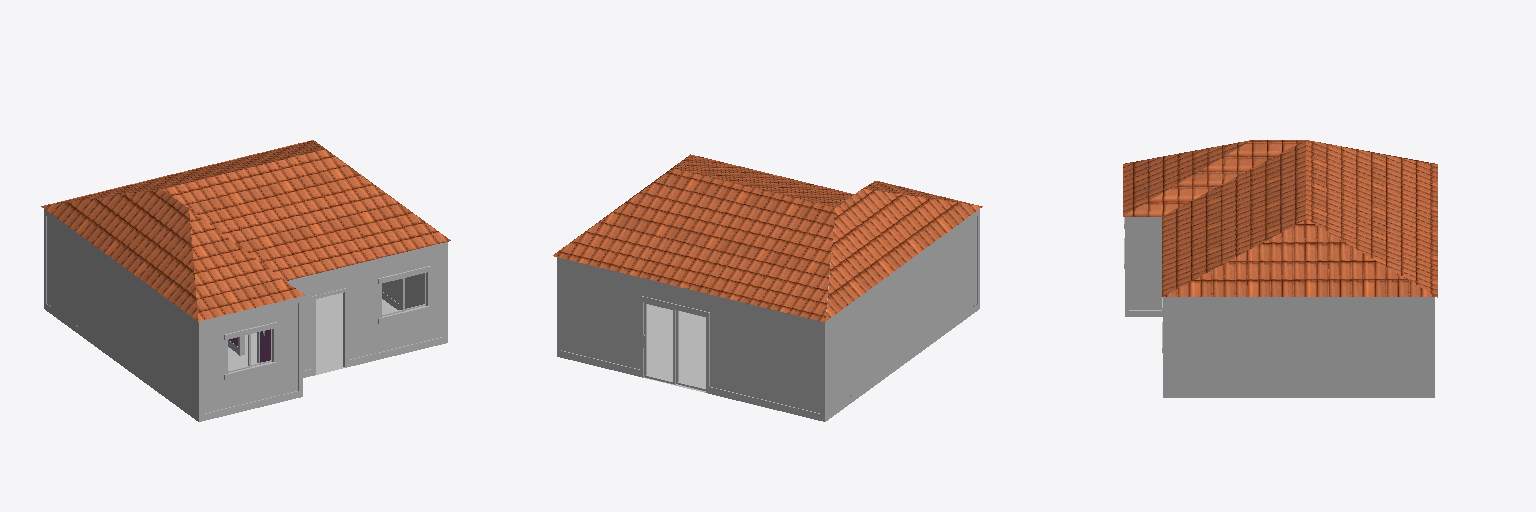
The picture shows the model from 3 angles: view 1: azimuth 30°, elevation 25°; view 2: azimuth 150°, elevation 25°; view 3: azimuth 270°, elevation 25°; orthographic projection.
Parts seen in each view (by area): view 1: Vert; view 2: Vert, Vert.002; view 3: Vert.
Part boxes in pixels (x1,y1,x2,y2): Vert: (41,140,450,421); Vert: (553,154,982,421); Vert.002: (643,302,675,384); Vert: (1123,140,1437,397).
Size of the model in its own units: 16.58 by 8.92 by 16.6.
Materials: 15 (3 with a texture image).